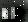person: (9, 8, 15, 20), (3, 9, 9, 20)
